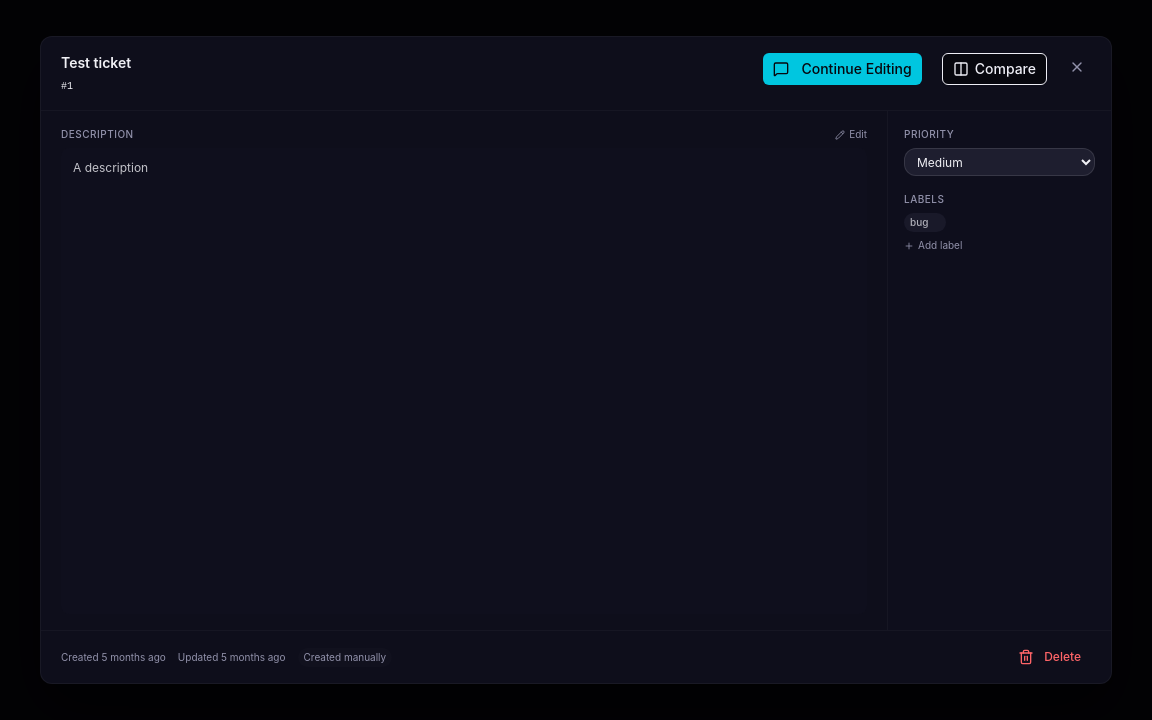
Test: TicketDetailModal › delete behavior › shows delete confirmation dialog when Delete button is clicked
The width and height of the screenshot is (1152, 720).
Note: Footer has a "Delete" button
Click the button "Delete".
click(1050, 657)  # box [1008,643,1091,671]
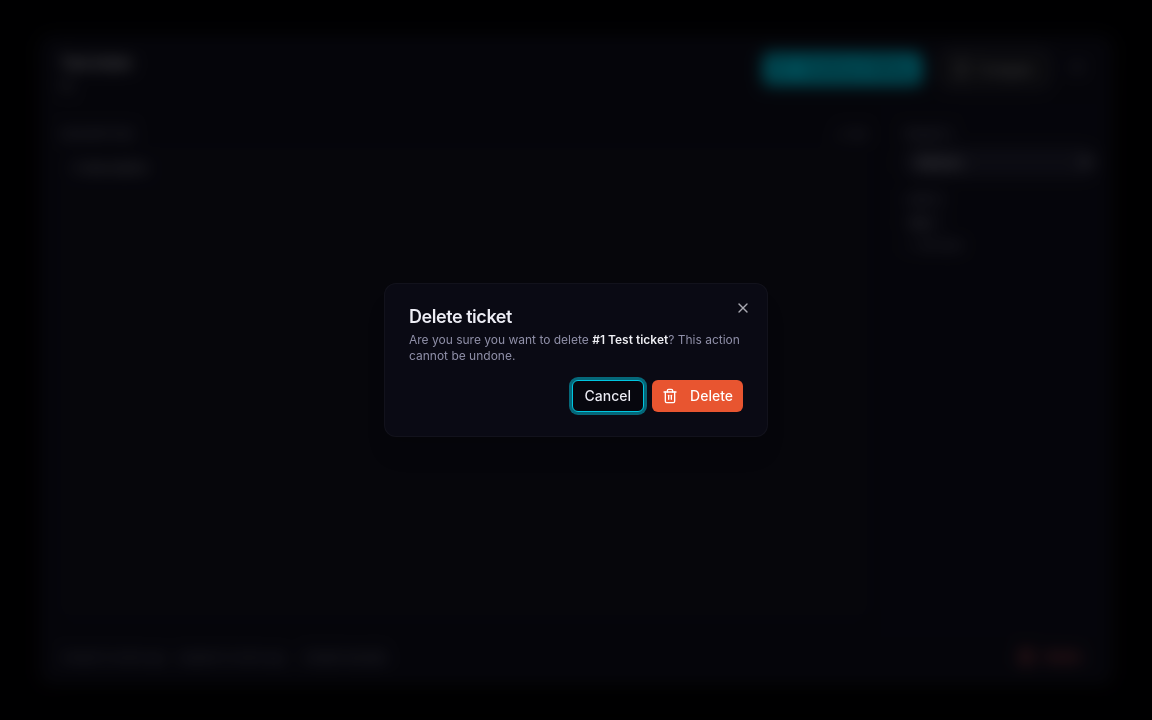
Expected: the heading "Delete ticket" is shown, [409,306,512,327]
